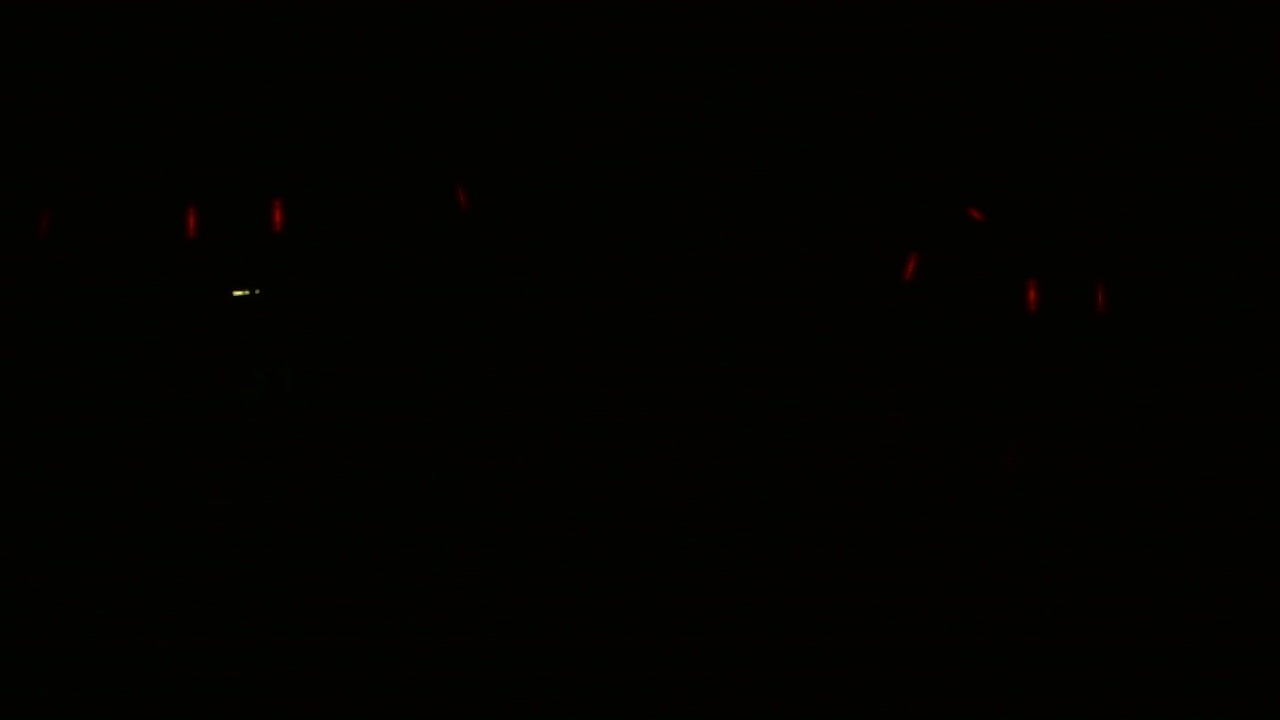pair1: (1026, 273, 1103, 316), (184, 204, 284, 237)
